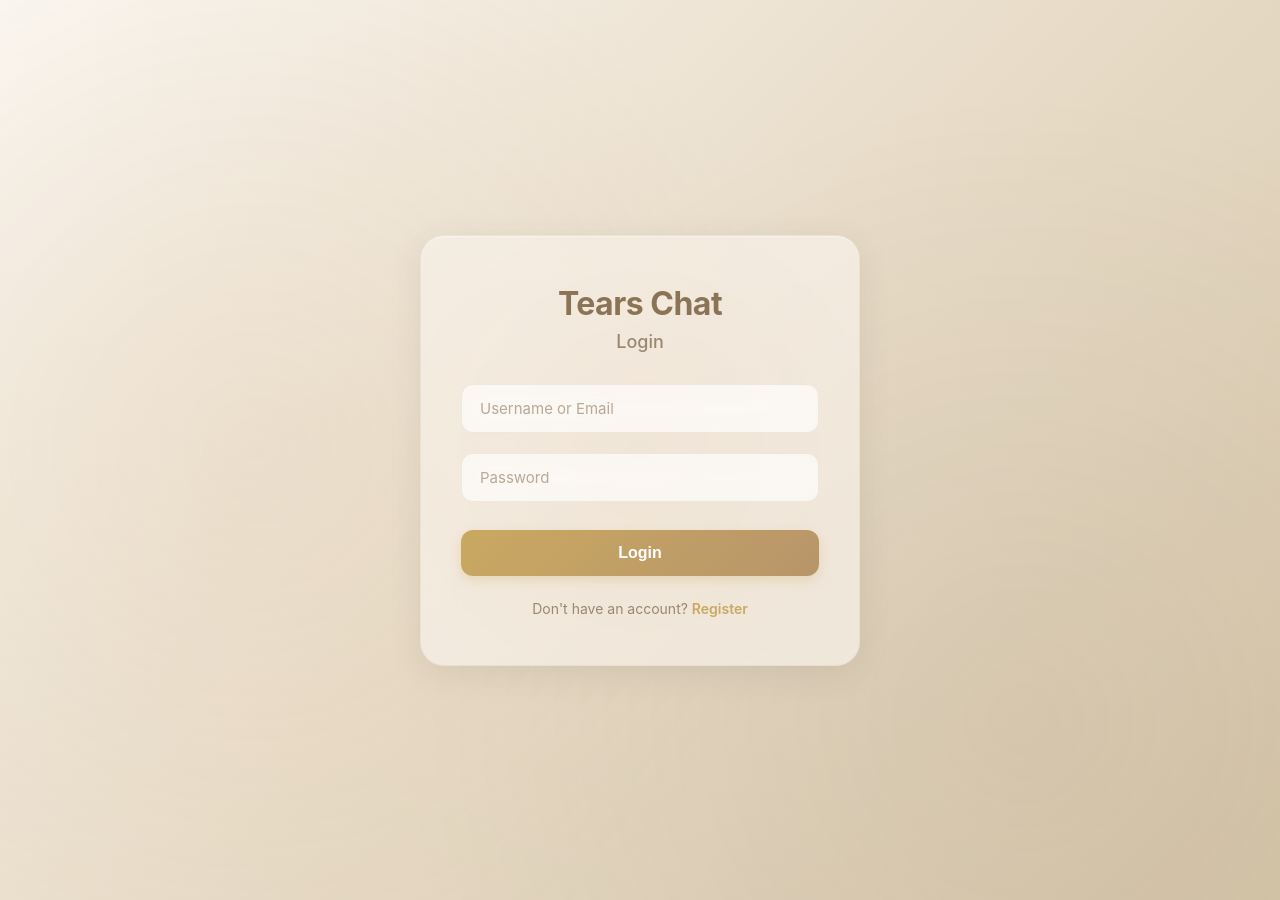
Scenario: Login Component › shows error on failed login
This screenshot has width=1280, height=900.
Type "wronguser" into the field with placeholder "Username or Email".
click(640, 408); type("wronguser")  # box [461,384,819,432]
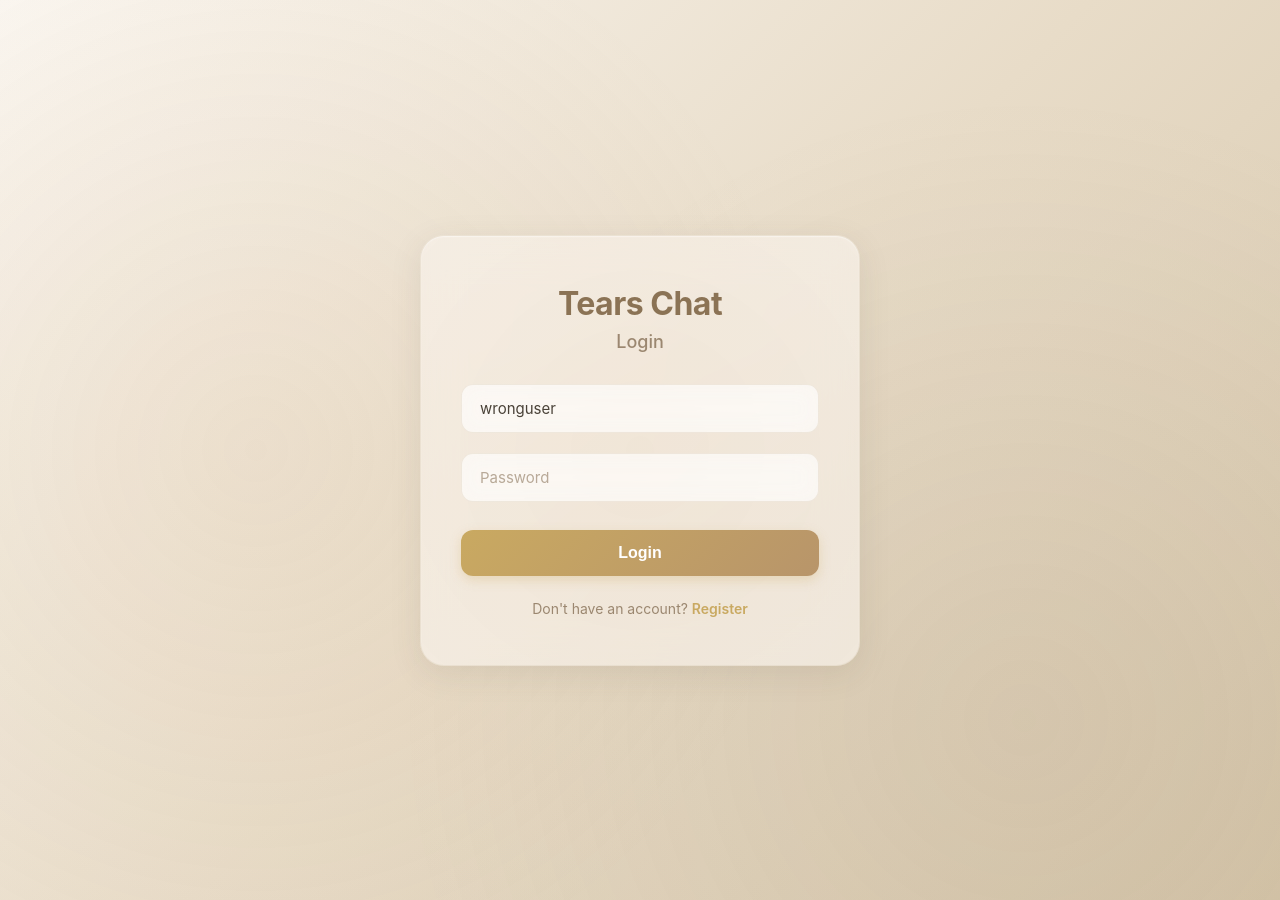
Type "wrongpass" into the password field with placeholder "Password".
click(640, 477); type("wrongpass")  # box [461,452,819,502]
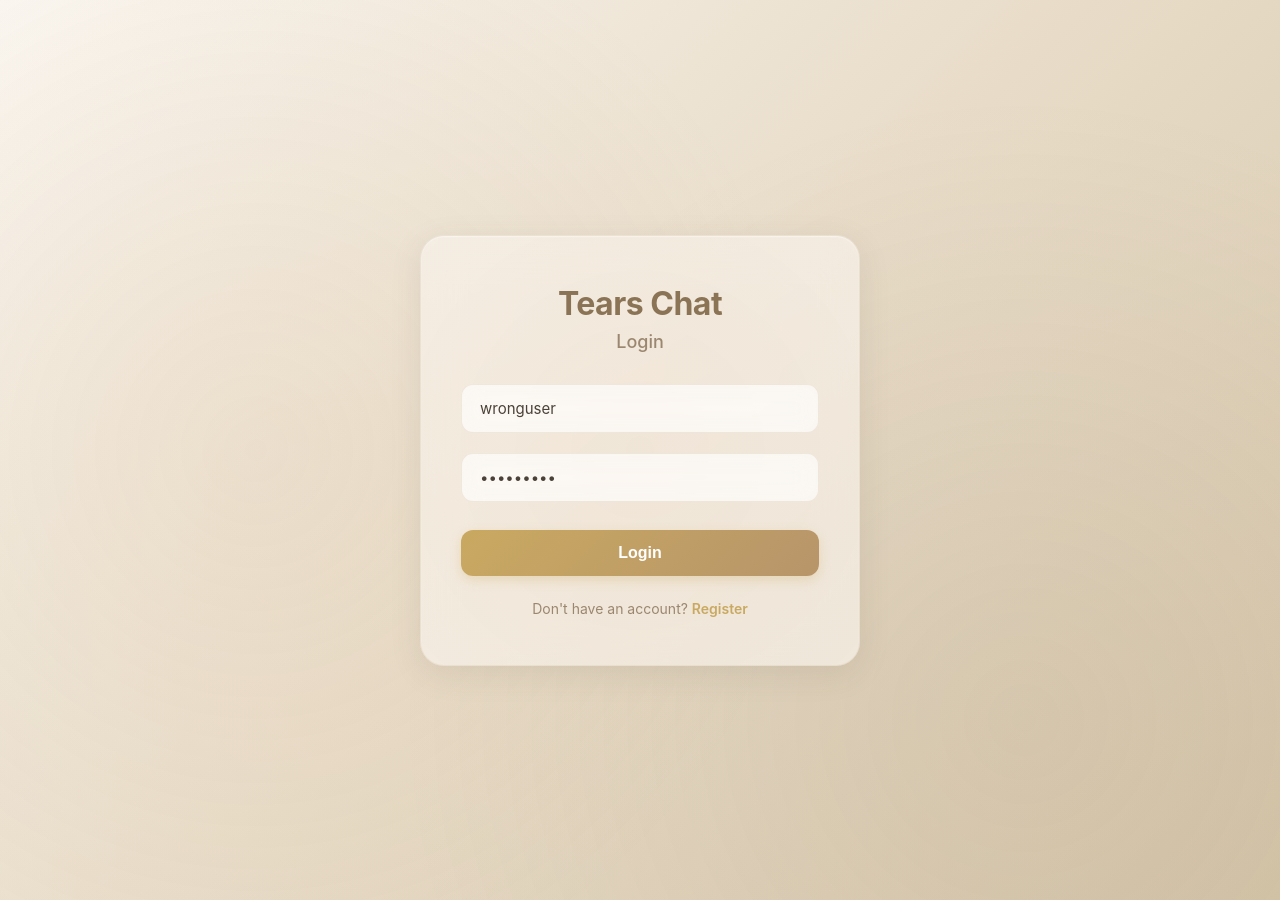
Click the button "Login".
click(640, 552)  # box [461,530,819,576]
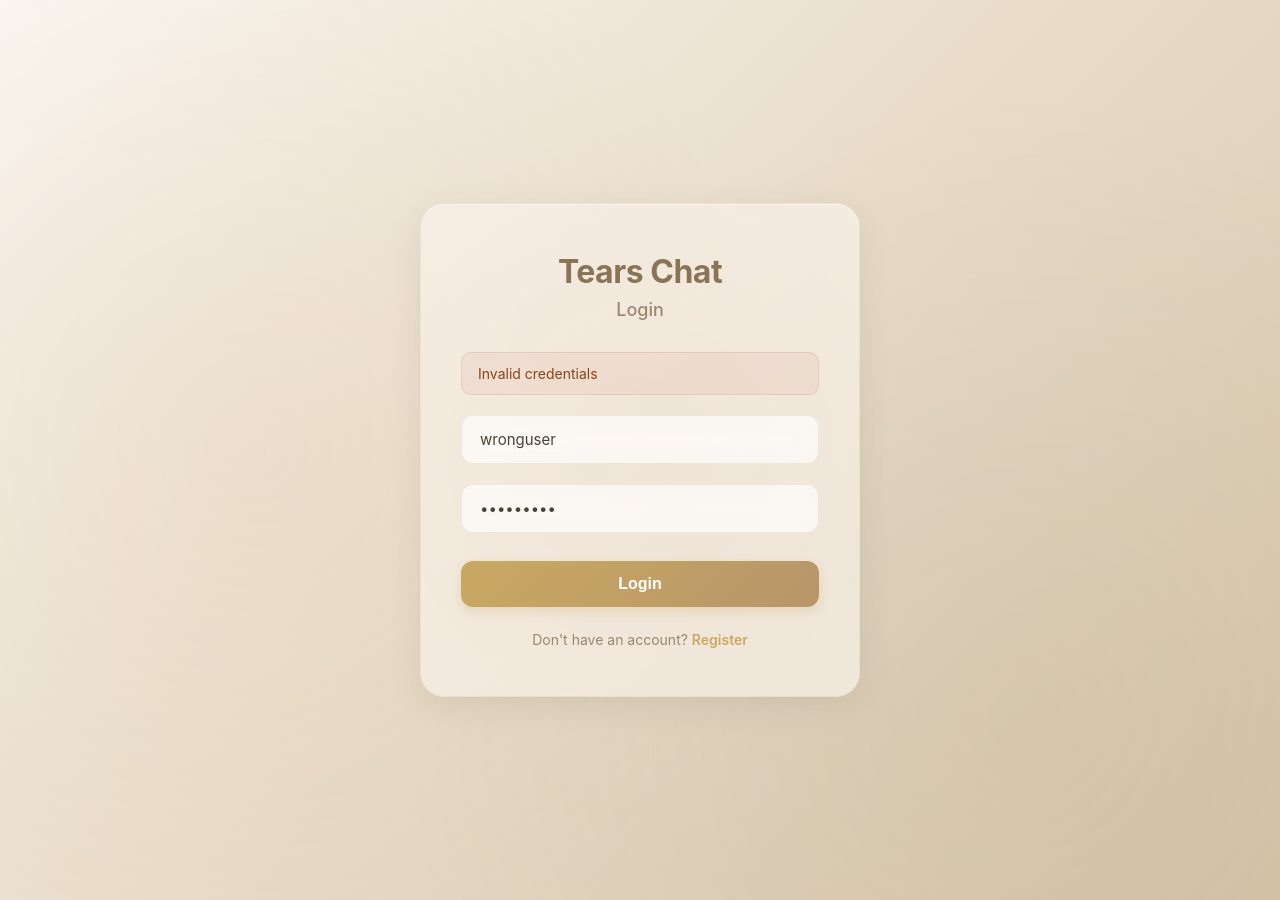
Check: the text "Invalid credentials" is shown, box [461,352,819,395]
